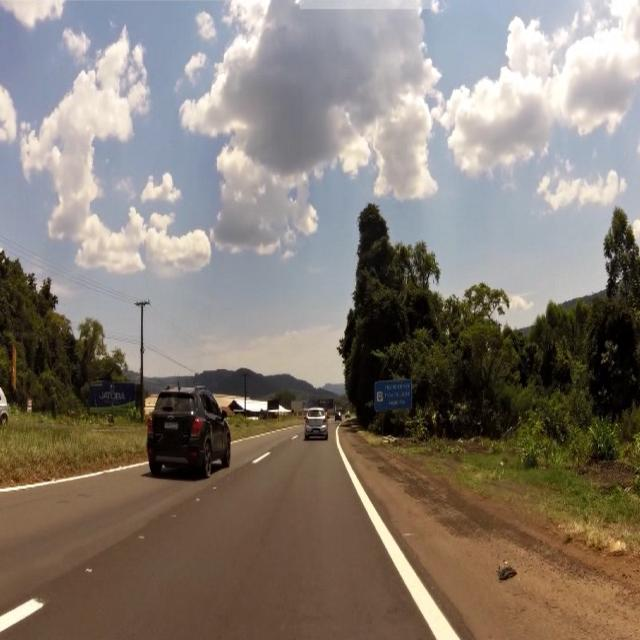LOC-6: (375, 384, 413, 410)
